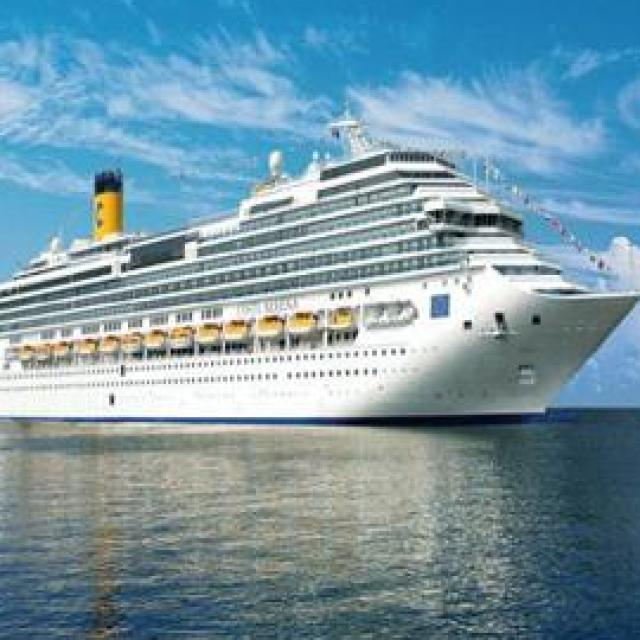passenger ship: (0, 104, 638, 424)
